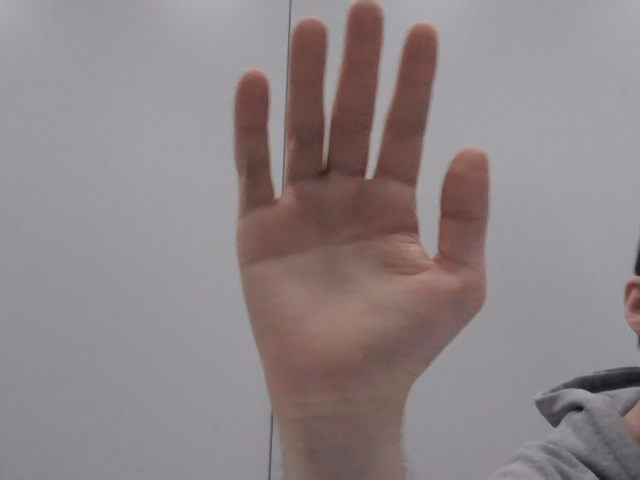nada: (220, 2, 521, 425)
